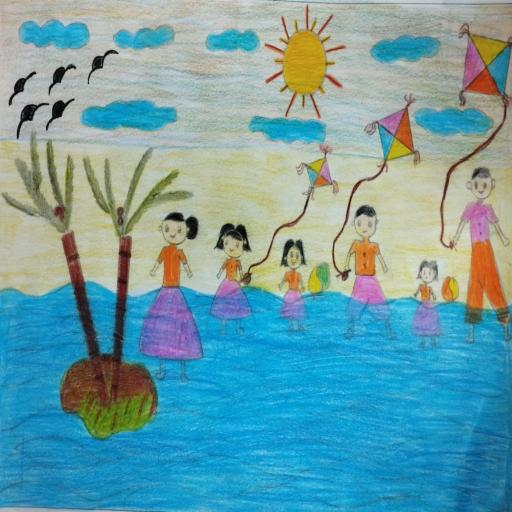person: (139, 206, 204, 391), (460, 162, 510, 356), (335, 202, 395, 350), (208, 214, 256, 346), (272, 232, 314, 338), (408, 258, 442, 359)
